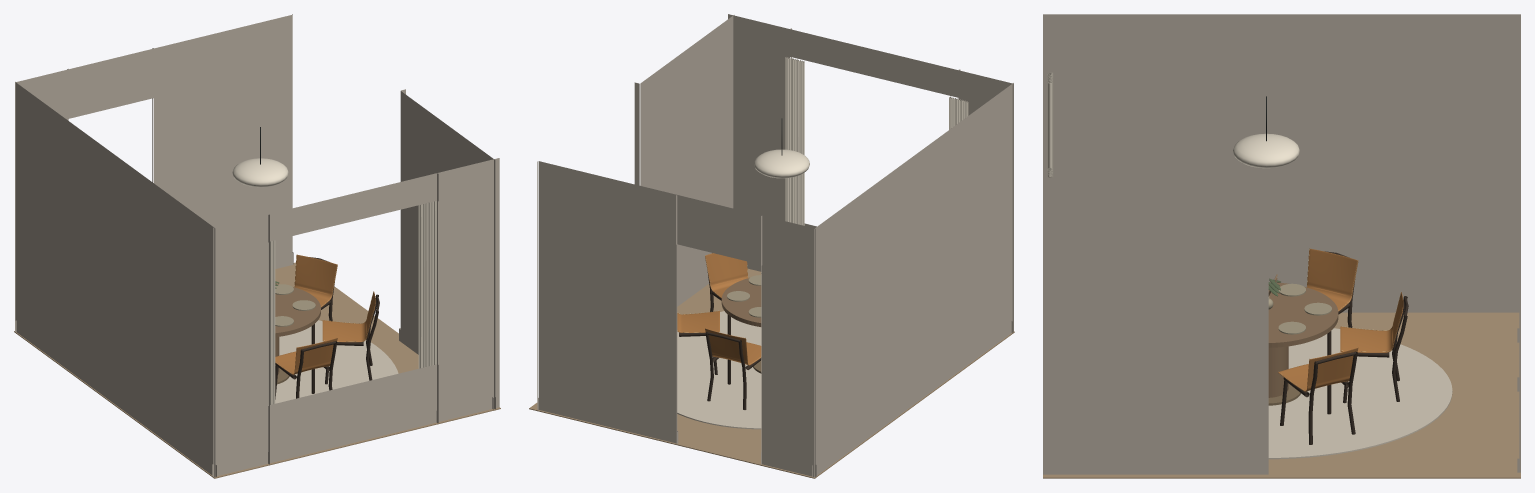
The model's file is dining-2.glb.
The picture shows the model from 3 angles, left to right: view 1: azimuth 30°, elevation 25°; view 2: azimuth 150°, elevation 25°; view 3: azimuth 270°, elevation 25°; orthographic projection. The views are drawn at different scales.
Visible parts, largest first — view 1: DESIGN | dining removable wall finish, DESIGN | dining floor finish, DESIGN | Dining ground, DESIGN | Dining linen edge.001, DESIGN | Required Isadora dining chair 5, DESIGN | Required Isadora dining chair 1, DESIGN | Required Isadora dining chair 6, DESIGN | Dining table top, DESIGN | Dining light 1 shade, DESIGN | Dining linen edge; view 2: DESIGN | dining removable wall finish, DESIGN | Dining ground, DESIGN | dining floor finish, DESIGN | Dining linen edge.001, DESIGN | Required Isadora dining chair 2, DESIGN | Required Isadora dining chair 6, DESIGN | Dining light 1 shade, DESIGN | Dining table top, DESIGN | Required Isadora dining chair 1; view 3: DESIGN | dining removable wall finish, DESIGN | dining floor finish, DESIGN | Dining ground, DESIGN | Required Isadora dining chair 1, DESIGN | Dining table top, DESIGN | Required Isadora dining chair 3, DESIGN | Required Isadora dining chair 2, DESIGN | Dining light 1 shade, DESIGN | Dining table pedestal, DESIGN | Dining linen edge.
Boxes of the visible parts, bbox=[...] form: DESIGN | dining removable wall finish: bbox=[15, 14, 499, 477]; DESIGN | dining floor finish: bbox=[14, 262, 500, 478]; DESIGN | Dining ground: bbox=[275, 320, 398, 403]; DESIGN | Dining linen edge.001: bbox=[418, 201, 436, 368]; DESIGN | Required Isadora dining chair 5: bbox=[275, 337, 337, 399]; DESIGN | Required Isadora dining chair 1: bbox=[294, 254, 337, 344]; DESIGN | Required Isadora dining chair 6: bbox=[322, 291, 379, 384]; DESIGN | Dining table top: bbox=[275, 283, 320, 337]; DESIGN | Dining light 1 shade: bbox=[232, 158, 288, 187]; DESIGN | Dining linen edge: bbox=[268, 240, 275, 405]; DESIGN | dining removable wall finish: bbox=[537, 14, 1013, 477]; DESIGN | Dining ground: bbox=[677, 311, 761, 429]; DESIGN | dining floor finish: bbox=[529, 268, 1014, 478]; DESIGN | Dining linen edge.001: bbox=[785, 57, 804, 225]; DESIGN | Required Isadora dining chair 2: bbox=[705, 328, 761, 409]; DESIGN | Required Isadora dining chair 6: bbox=[705, 253, 748, 335]; DESIGN | Dining light 1 shade: bbox=[754, 149, 809, 178]; DESIGN | Dining table top: bbox=[721, 277, 761, 326]; DESIGN | Required Isadora dining chair 1: bbox=[677, 310, 719, 374]; DESIGN | dining removable wall finish: bbox=[1043, 14, 1520, 474]; DESIGN | dining floor finish: bbox=[1043, 312, 1520, 478]; DESIGN | Dining ground: bbox=[1268, 328, 1452, 459]; DESIGN | Required Isadora dining chair 1: bbox=[1278, 347, 1358, 444]; DESIGN | Dining table top: bbox=[1268, 282, 1338, 347]; DESIGN | Required Isadora dining chair 3: bbox=[1307, 248, 1358, 355]; DESIGN | Required Isadora dining chair 2: bbox=[1340, 292, 1408, 403]; DESIGN | Dining light 1 shade: bbox=[1233, 133, 1299, 168]; DESIGN | Dining table pedestal: bbox=[1268, 346, 1288, 397]; DESIGN | Dining linen edge: bbox=[1047, 72, 1053, 170].
Size of the model in its own units: 3.28 by 2.74 by 3.98.
